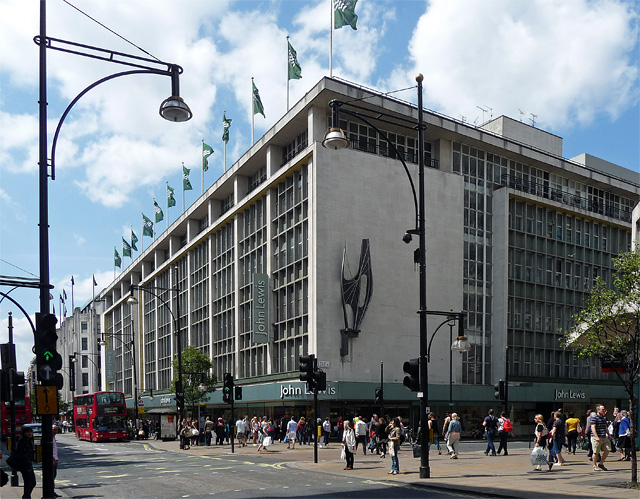fachada: (49, 78, 638, 408)
poste: (29, 3, 190, 499), (328, 73, 454, 489), (128, 274, 189, 436)
